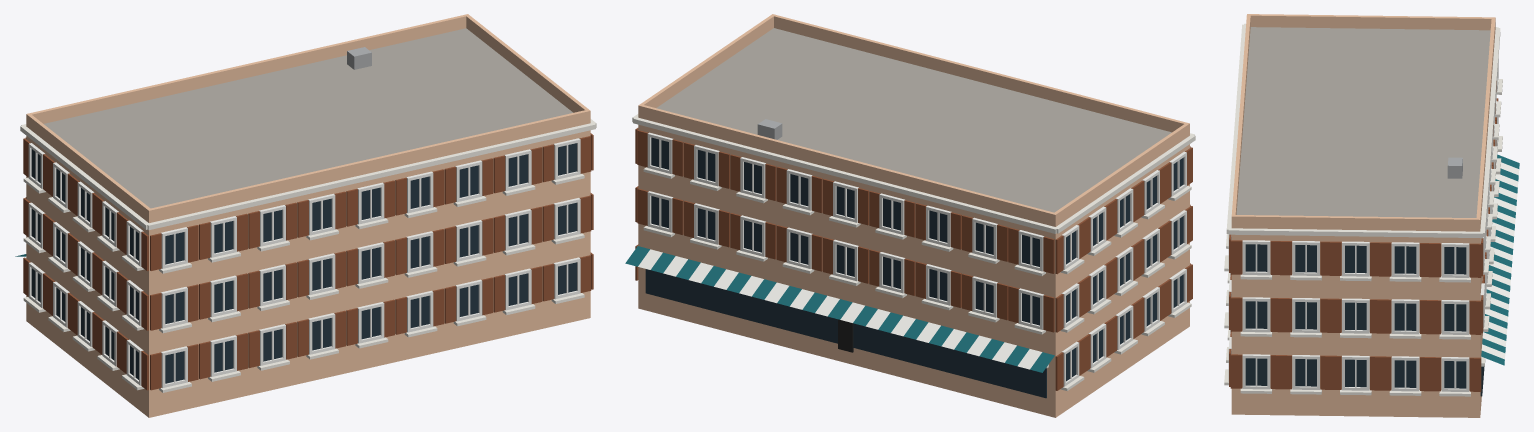
3 renders of one model, left to right at view 1: azimuth 30°, elevation 25°; view 2: azimuth 150°, elevation 25°; view 3: azimuth 270°, elevation 25°, orthographic. The views are drawn at different scales.
Visible parts, largest first — view 1: b768; view 2: b768; view 3: b768.
Part boxes in pixels (x1,y1,x2,y2): b768: (15,14,596,417); b768: (625,14,1195,417); b768: (1224,14,1519,417).
Bounding box in the file's own units: 10371 × 4547 × 6104.
